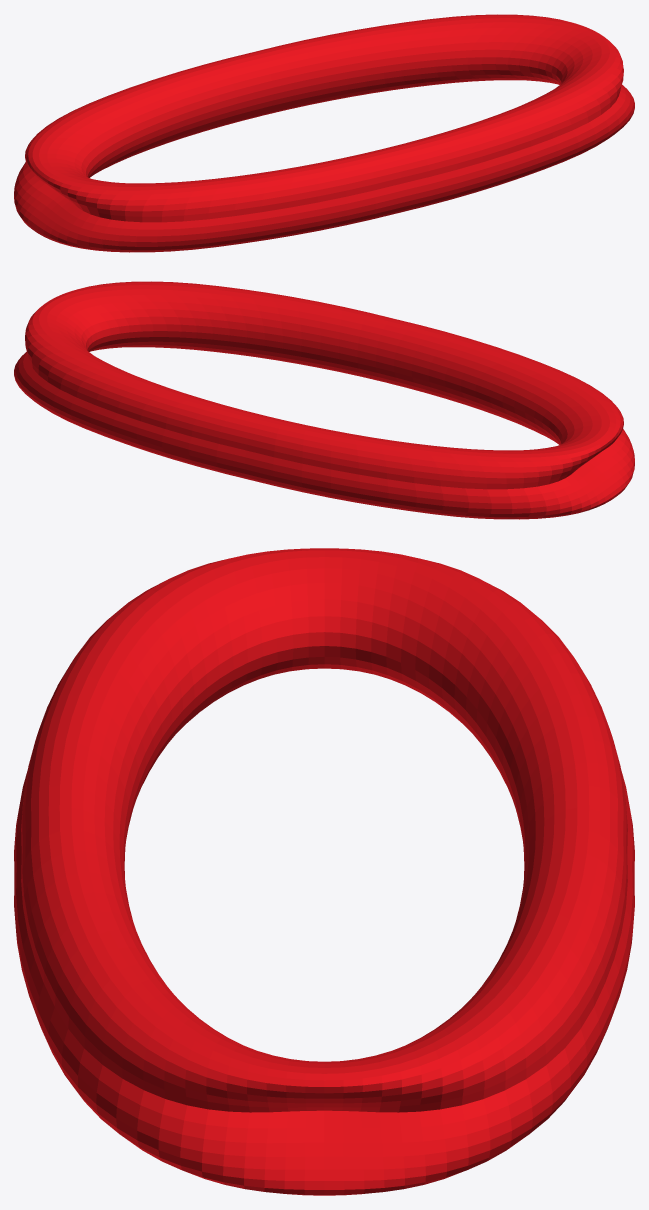
File: redRing.gltf
3 renders of one model, top to bottom at view 1: azimuth 30°, elevation 25°; view 2: azimuth 150°, elevation 25°; view 3: azimuth 270°, elevation 25°, orthographic. The views are drawn at different scales.
Visible parts, largest first — view 1: Torus.002; view 2: Torus.002; view 3: Torus.002.
Part boxes in pixels (x1,y1,x2,y2): Torus.002: (14,14,634,252); Torus.002: (14,281,634,519); Torus.002: (14,548,634,1195).
Size of the model in its own units: 3.13 by 0.3101 by 1.48.
